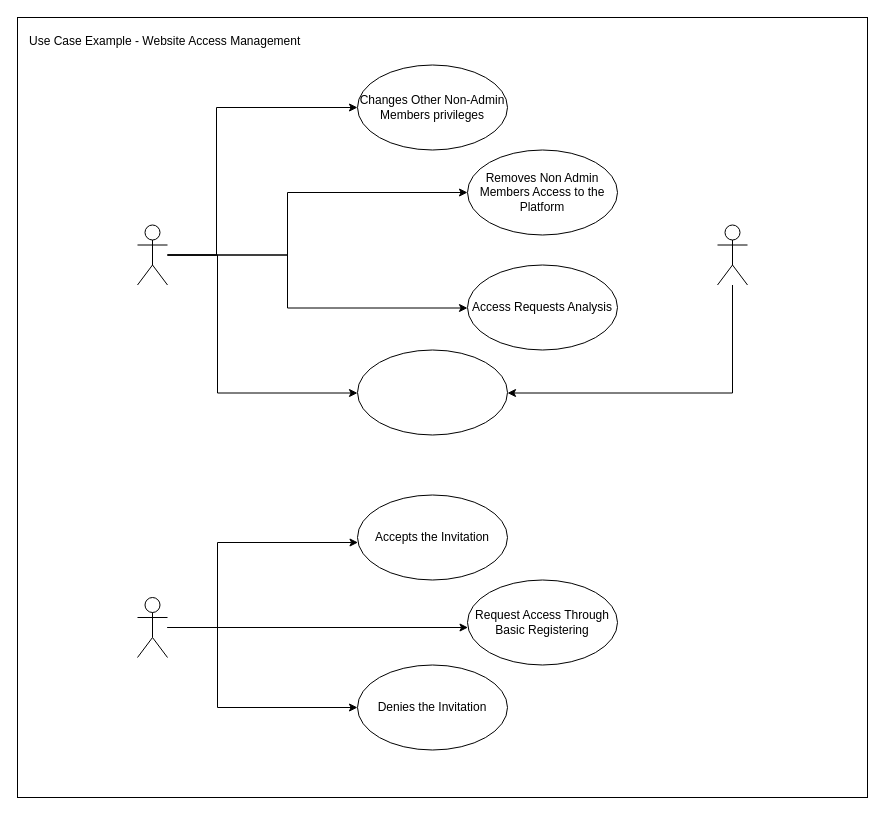
This 885x815 diagram has some shape labels left out. Each missing label, with the centre of its shape:
Admin: the point at 152,254
Invites New People To the Platform: the point at 432,392
Member: the point at 732,254
Non-Member: the point at 152,627
